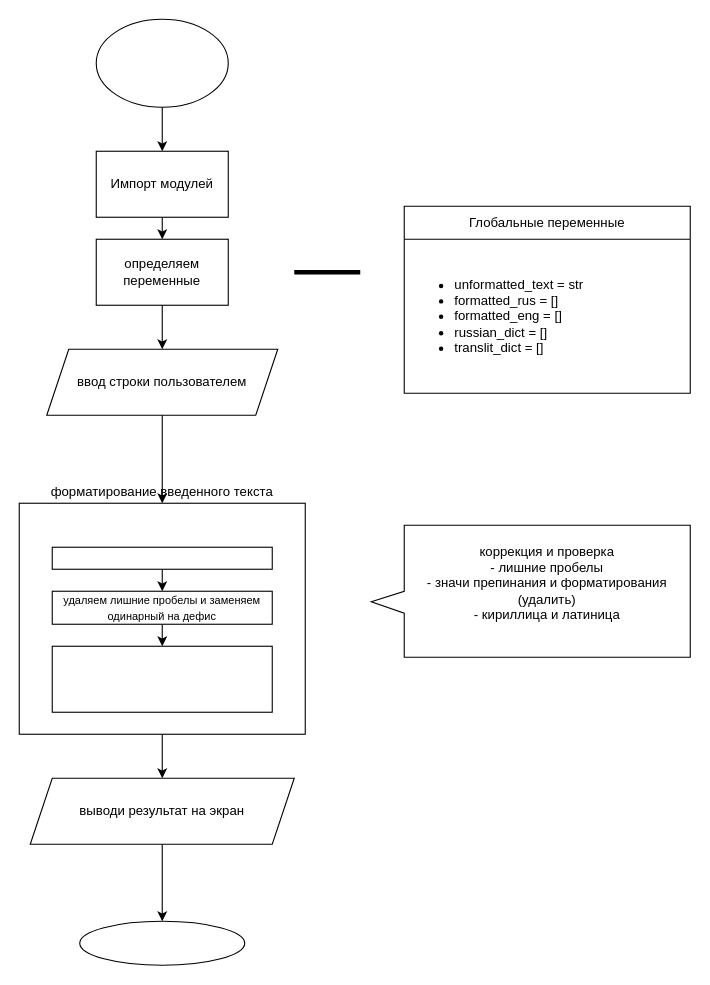
Image size: 710x985. Some labels were removed from this diagram. Each missing label, with the centre of its shape:
конец: [162,942]
преобразуем в прописные: [161,557]
производим транслитерацию: [161,678]
Транслитерация Начало: [161,62]
